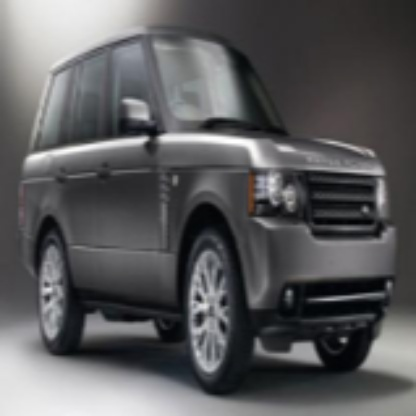Vehicle: (16, 25, 398, 392)
